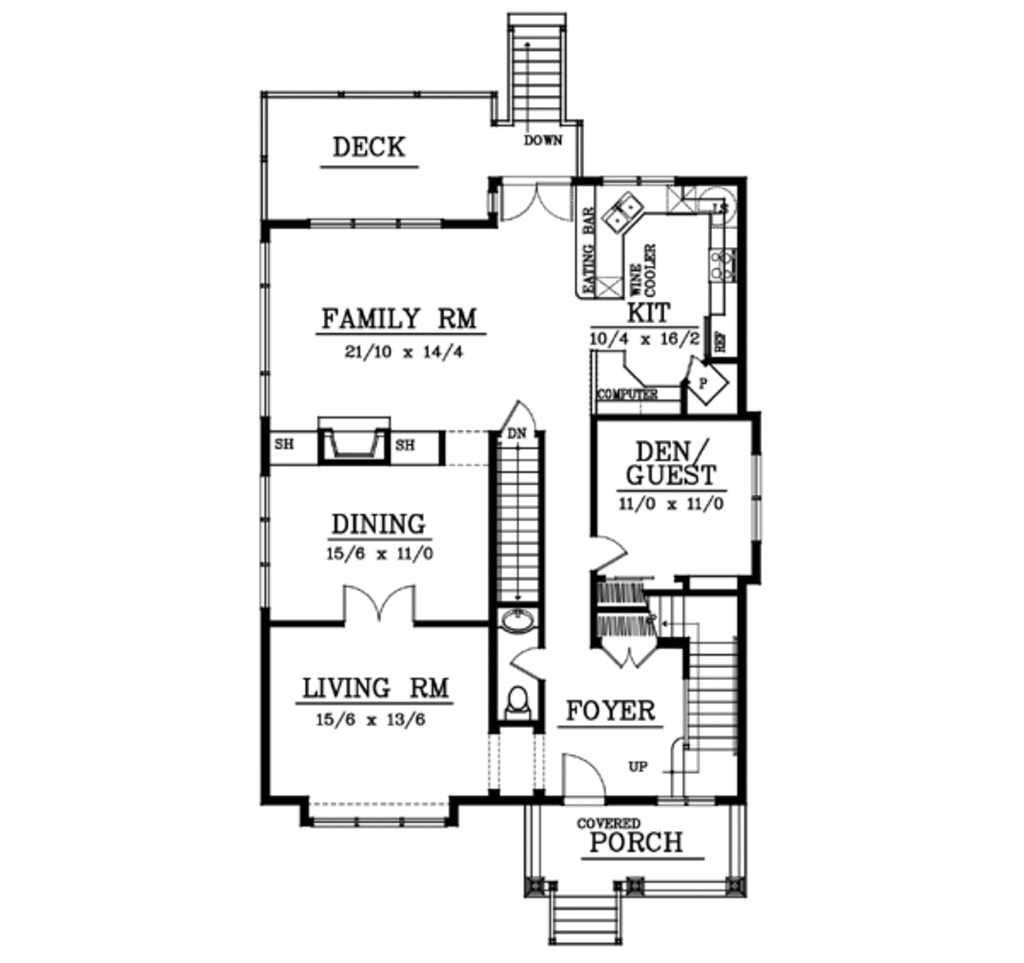door: (494, 165, 578, 229), (334, 579, 425, 626), (555, 749, 609, 814), (588, 523, 634, 592), (597, 631, 673, 670), (506, 644, 554, 685), (495, 399, 540, 440)
large_sink: (494, 685, 534, 723)
small_sink: (495, 607, 545, 641)
stairs: (649, 599, 763, 798), (492, 7, 583, 135), (494, 443, 546, 599), (543, 888, 621, 953)
twin_sink: (586, 179, 646, 238)
window: (252, 241, 281, 416), (307, 811, 464, 834), (745, 441, 769, 546), (303, 214, 440, 231), (260, 476, 269, 613), (592, 174, 678, 183)
